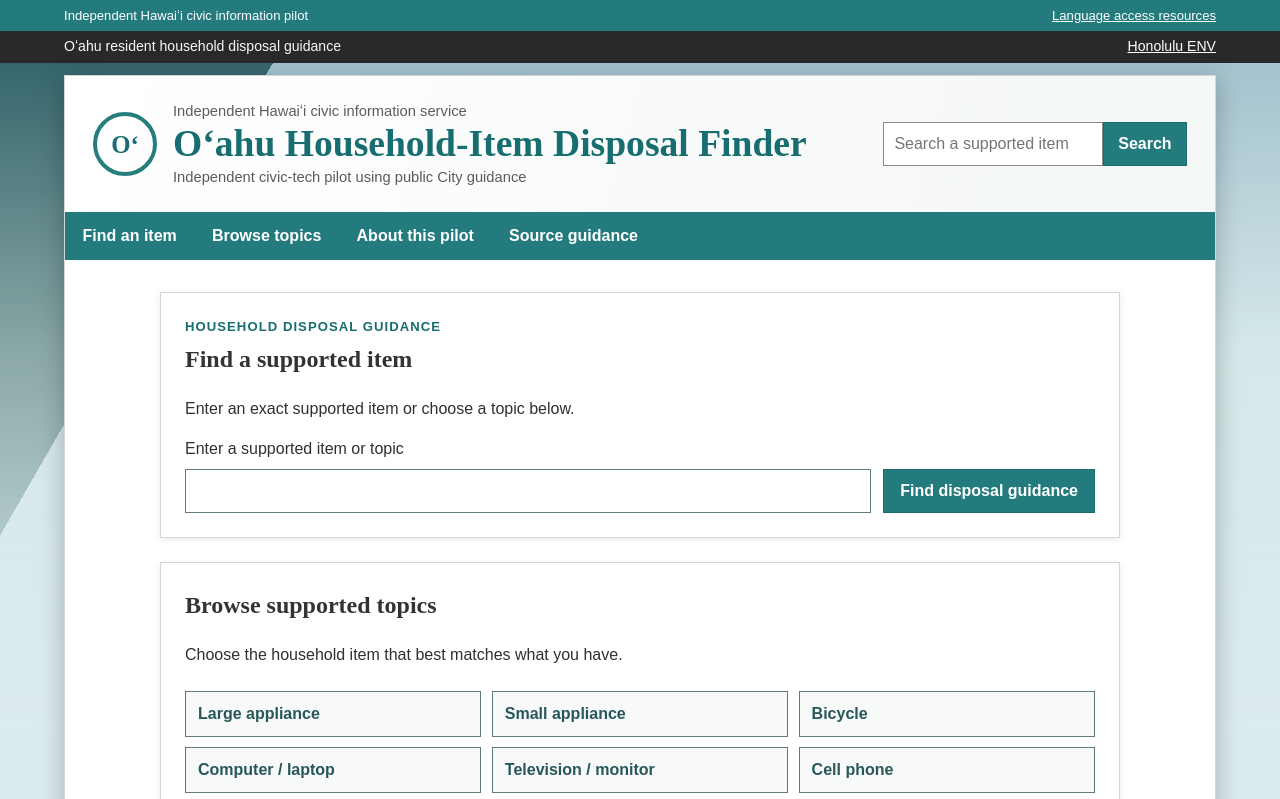
it: topic browse › takes a clarification fallback choice to its data-backed official source
The image size is (1280, 799).
In the search field labelled "Enter a supported item or topic": [528, 491] box [185,469,871,513], type "paint"
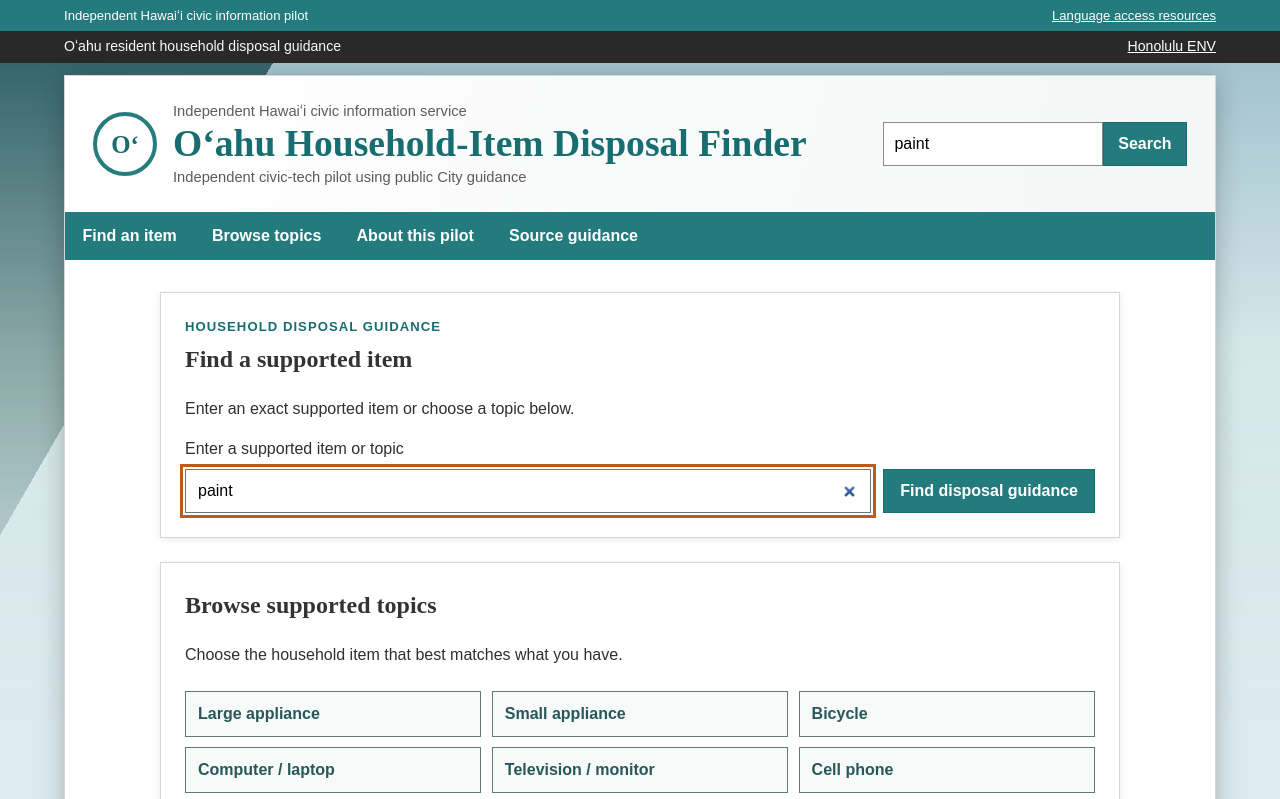
Click the button "Search": [1145, 144] box [1103,122,1187,166]
(page scrolled)
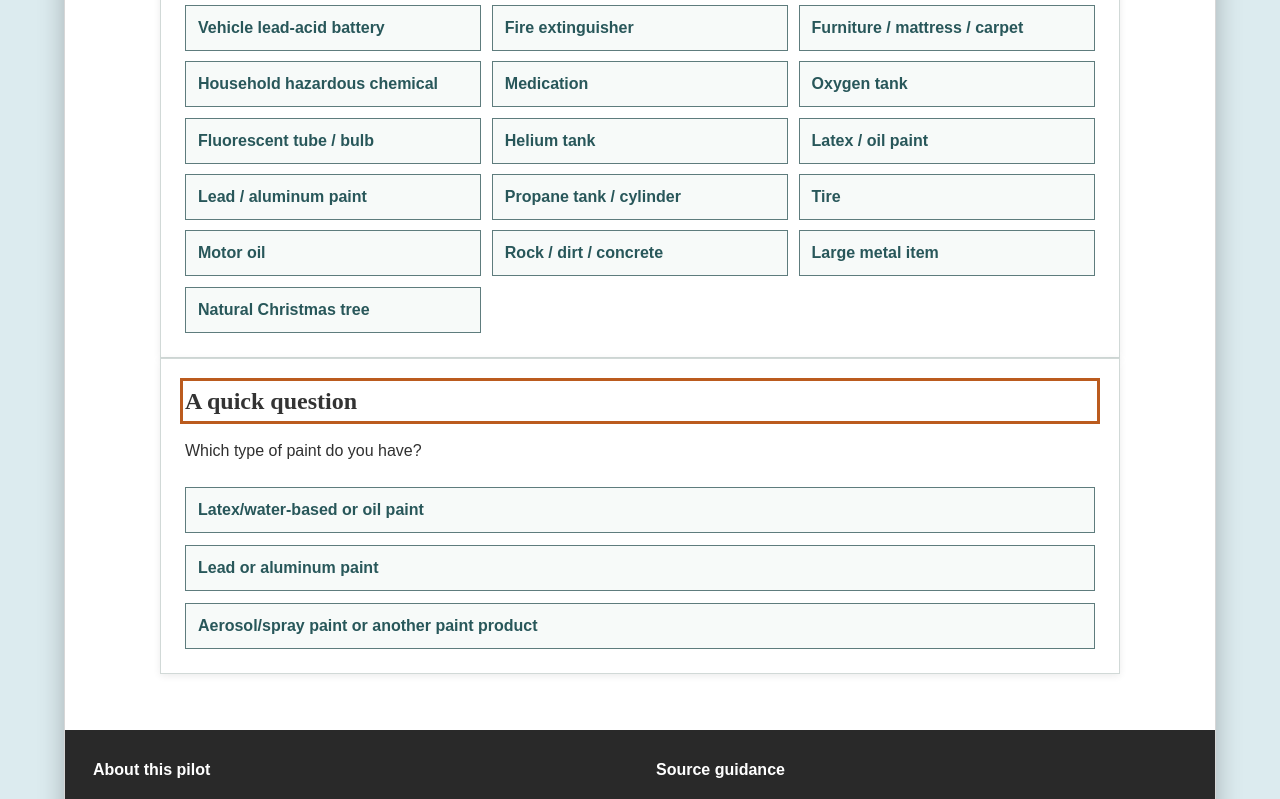
Click the button "Aerosol/spray paint or another paint product": [368, 625] box [185,603,1095,649]
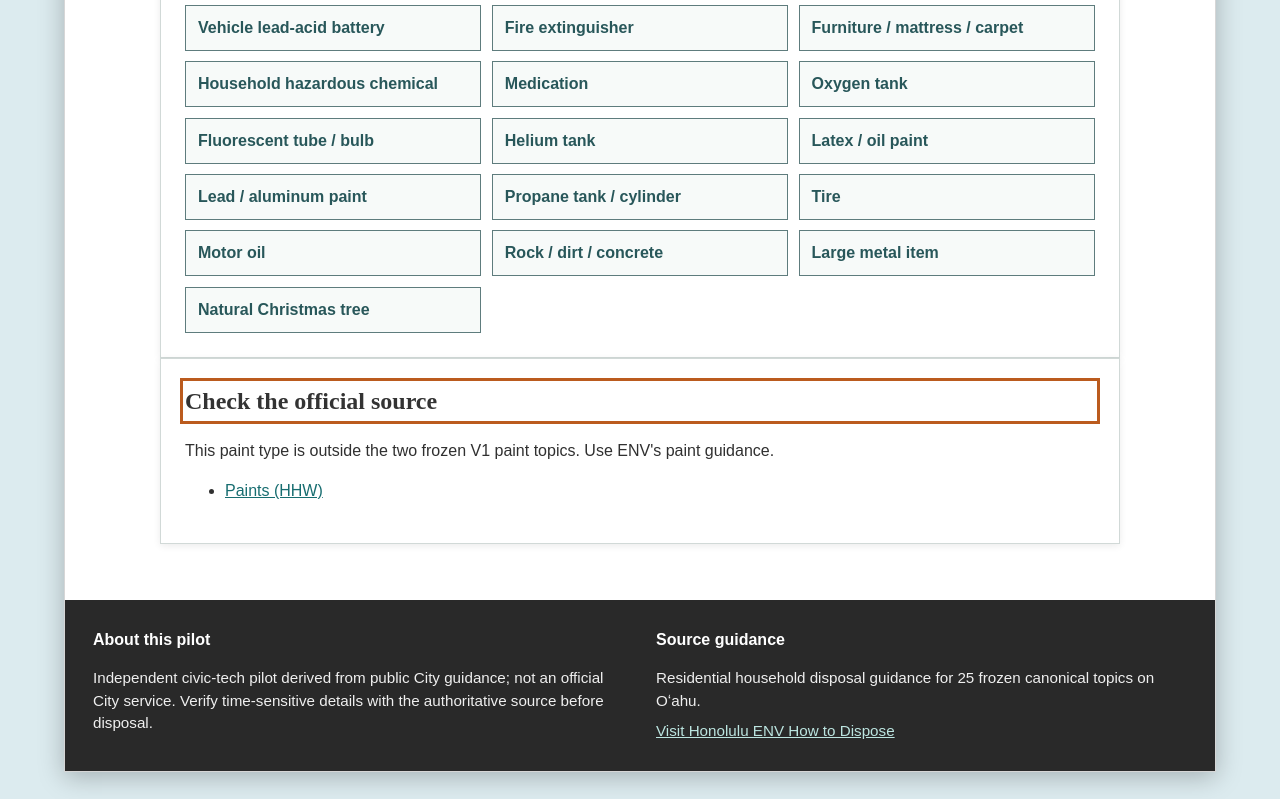
Now the heading "Check the official source" is shown, box [185,388,437,414]
Now the link "Paints (HHW)" is shown, box [225,482,323,499]
